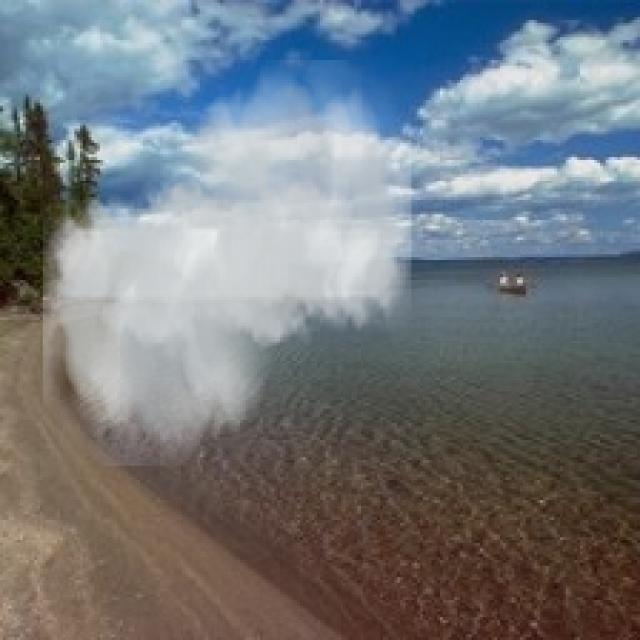Smoke: (42, 60, 412, 466)
